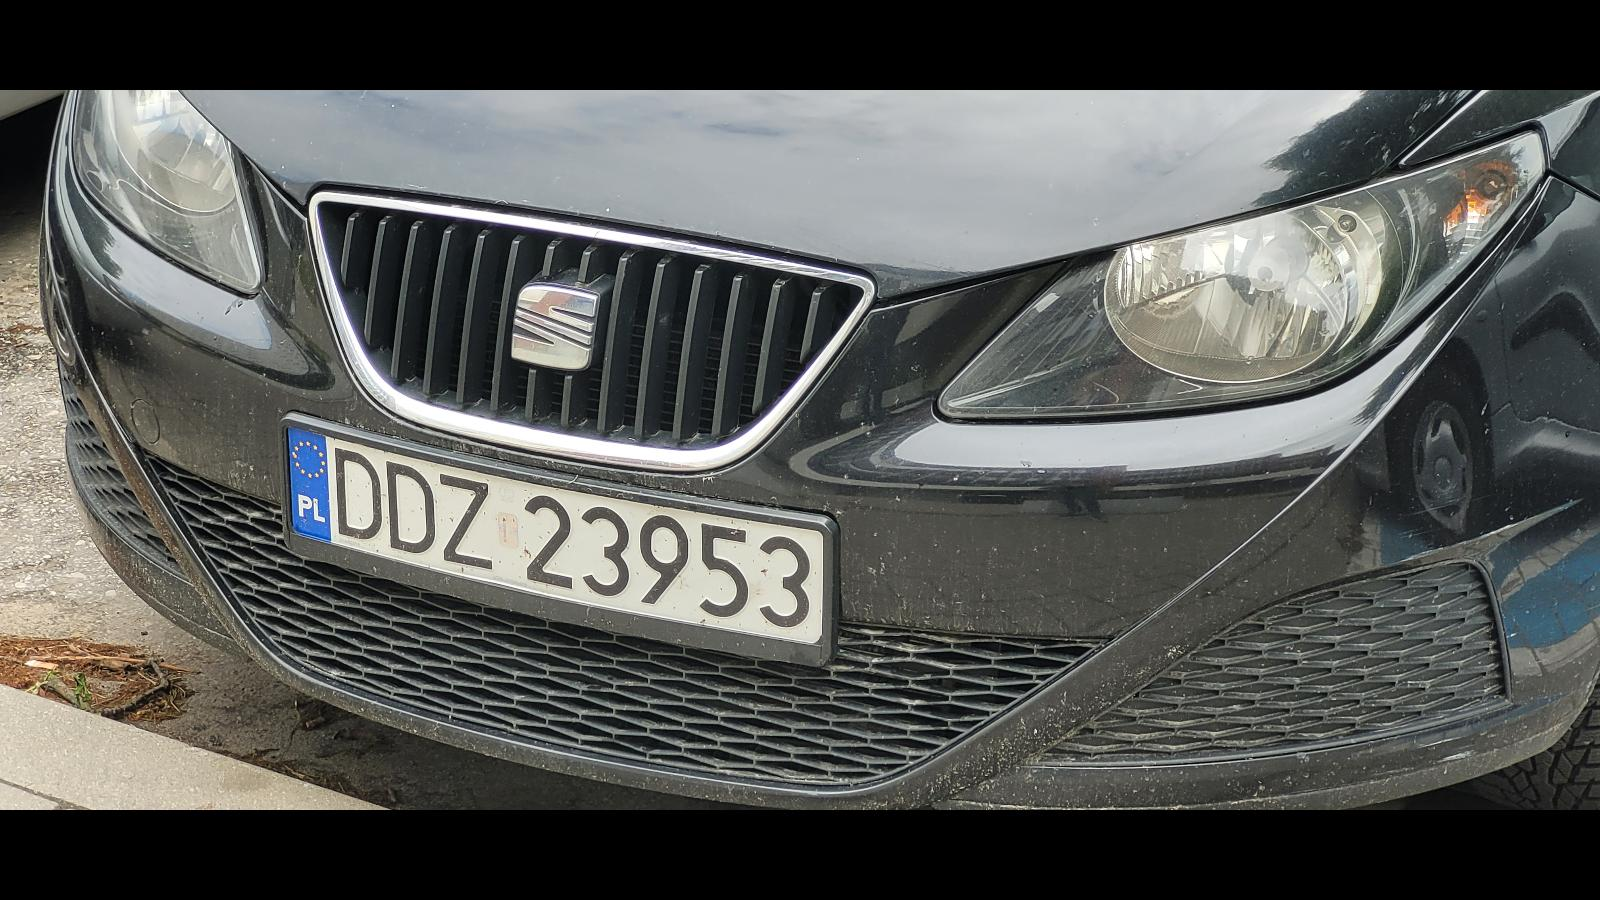plates: (278, 410, 840, 668)
